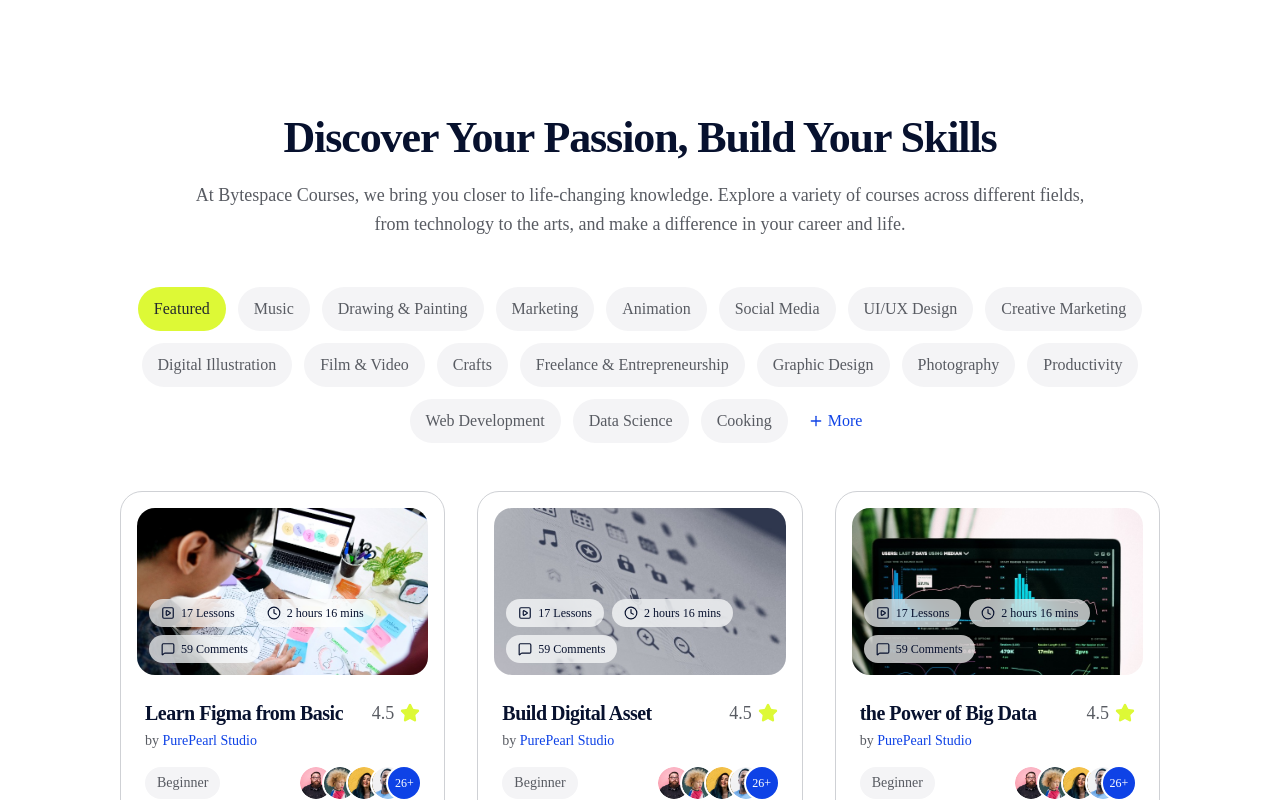
Scenario: CourseExplorer › reveals hidden categories via the + More expander and filters by them
This screenshot has width=1280, height=800.
Click the button "More" at (835, 421), box [800,399,870,443]
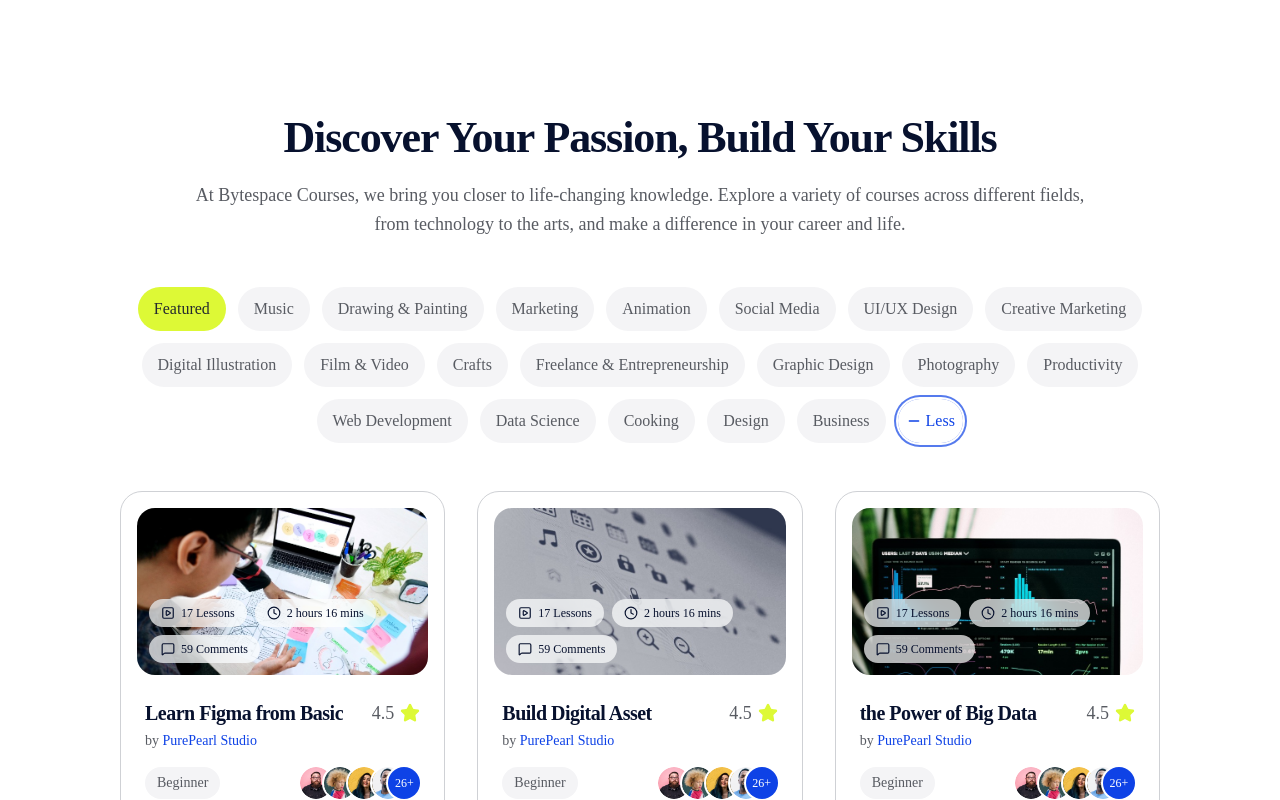
Expected: the button "Design" is shown
Click the button "Design" at (746, 421), box [707,399,785,443]
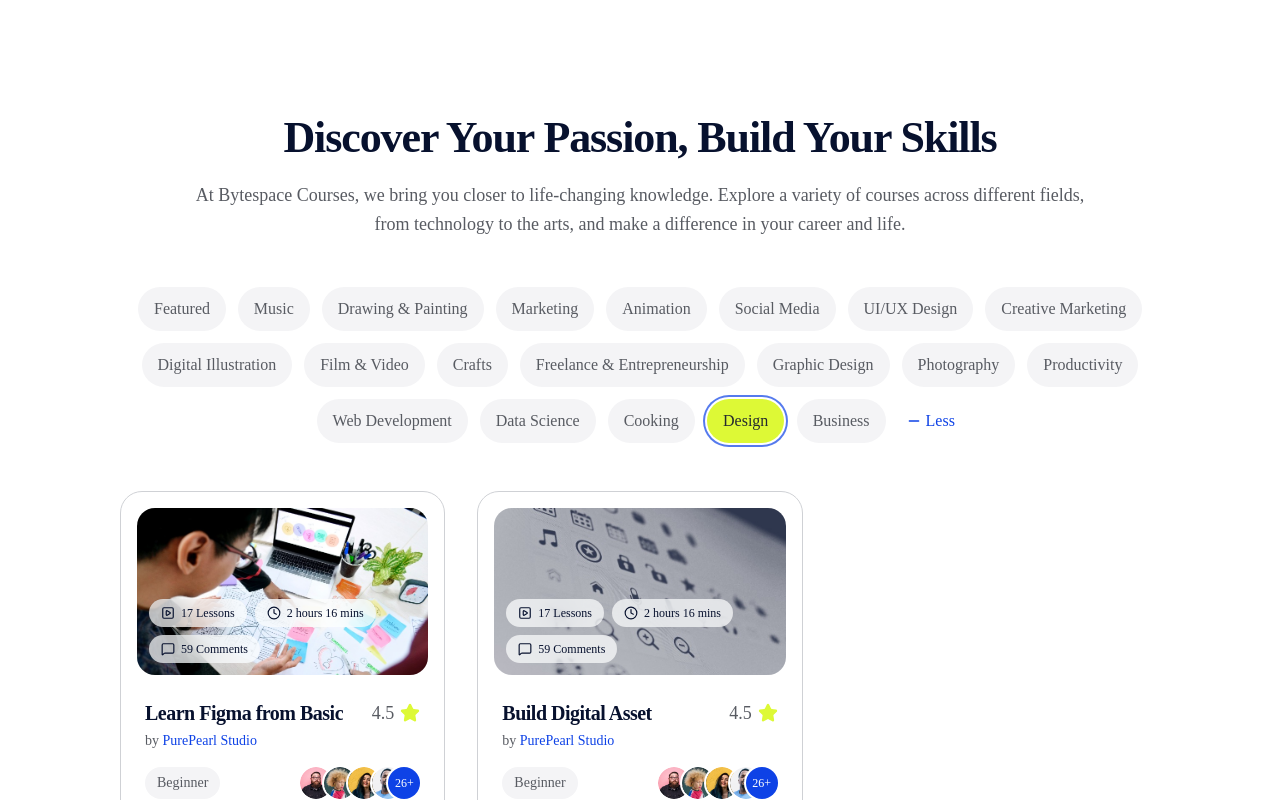
Expected: the heading "Learn Figma from Basic" is shown, [145,699,343,727]
Expected: the link "the Power of Big Data" is gone
